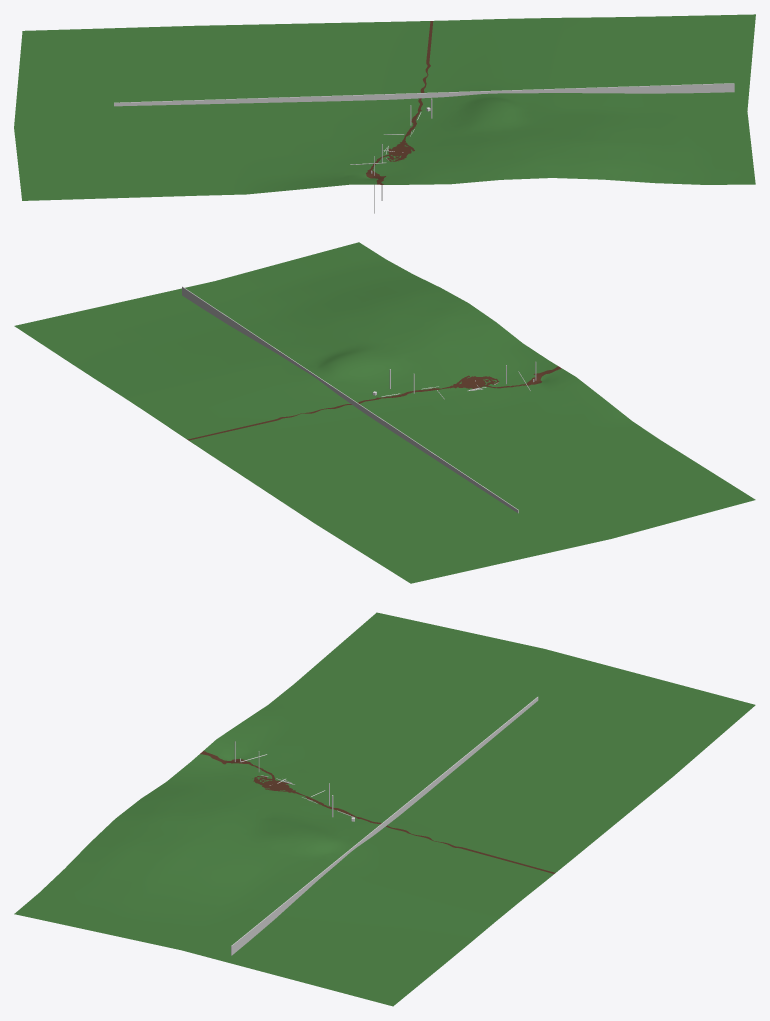
The model's file is Forest entrance.fbx.
The picture shows the model from 3 angles, top to bottom: view 1: azimuth 30°, elevation 25°; view 2: azimuth 150°, elevation 25°; view 3: azimuth 270°, elevation 25°; orthographic projection. The views are drawn at different scales.
Visible parts, largest first — view 1: Forest path.001, fence; view 2: Forest path.001, fence; view 3: Forest path.001, fence.
Part boxes in pixels (box(x1,y1,x2,y2)): Forest path.001: box(14, 14, 755, 200); fence: box(114, 83, 734, 106); Forest path.001: box(14, 242, 755, 583); fence: box(182, 286, 518, 513); Forest path.001: box(14, 612, 755, 1006); fence: box(231, 697, 538, 955).
Bounding box in the file's own units: 7316 × 536 × 5820.
